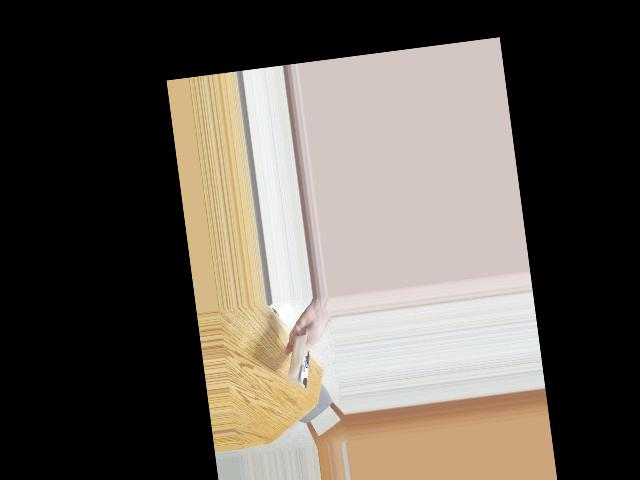cheese: (276, 332, 326, 388)
